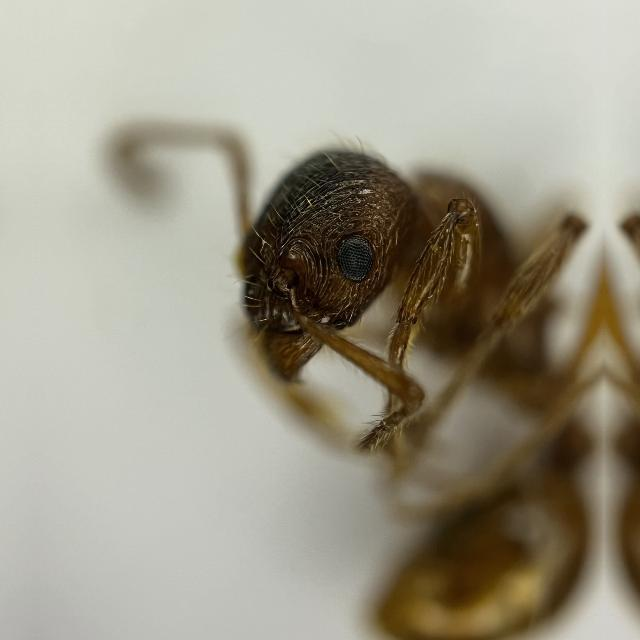Myrmica: (178, 90, 602, 640)
